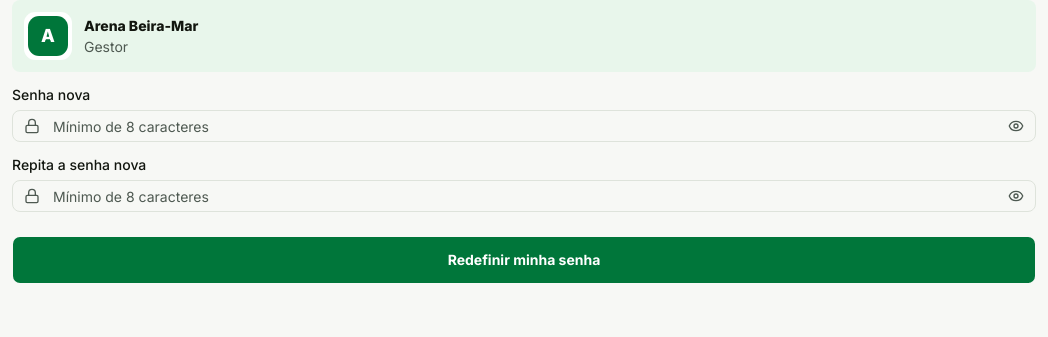
Test: RedefinirSenhaForm (SPEC-090/AC-025) › SPEC-090/I9 — 429: o texto fixo, nunca a mensagem do servidor › SPEC-090/I9 — 429 no POST: o texto fixo, e o formulário fica
Type "senha-nova-123" into the password field labelled "Senha nova". click: (524, 126)
box: x1=12 y1=110 x2=1036 y2=142
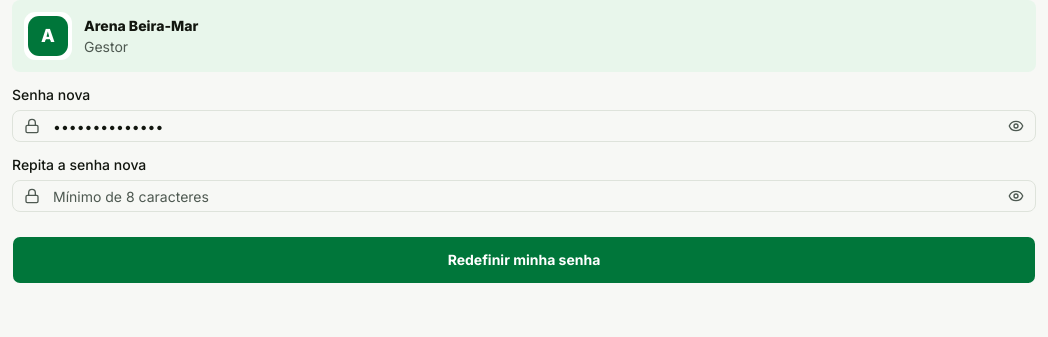
Type "senha-nova-123" into the password field labelled "Repita a senha nova". click: (524, 196)
box: x1=12 y1=180 x2=1036 y2=212
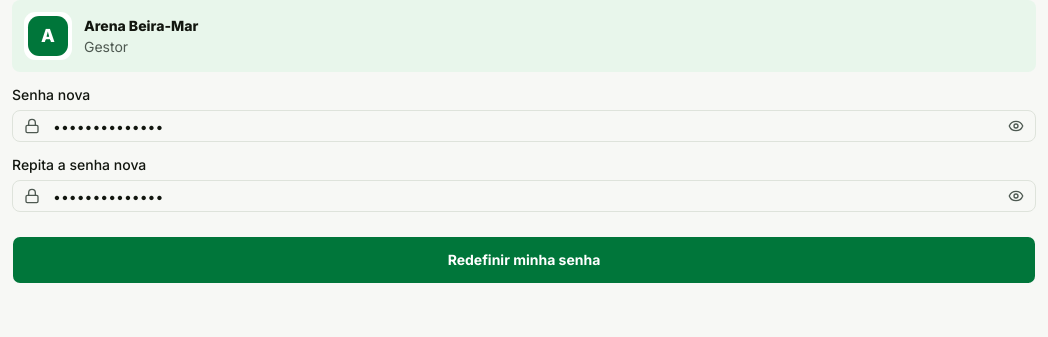
Click the button "Redefinir minha senha". click: (524, 260)
box: x1=12 y1=236 x2=1036 y2=284
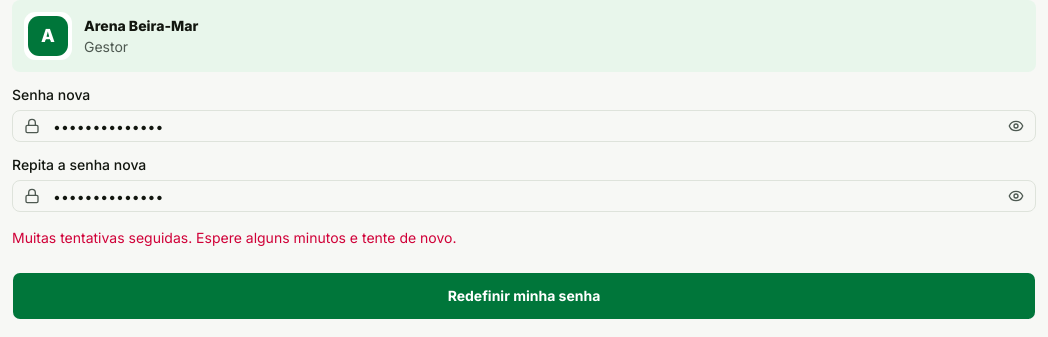
Expected: the button "Redefinir minha senha" is enabled, x1=12 y1=272 x2=1036 y2=320
Expected: the message reads "Muitas tentativas seguidas. Espere alguns minutos e tente de novo.", x1=12 y1=229 x2=456 y2=246
